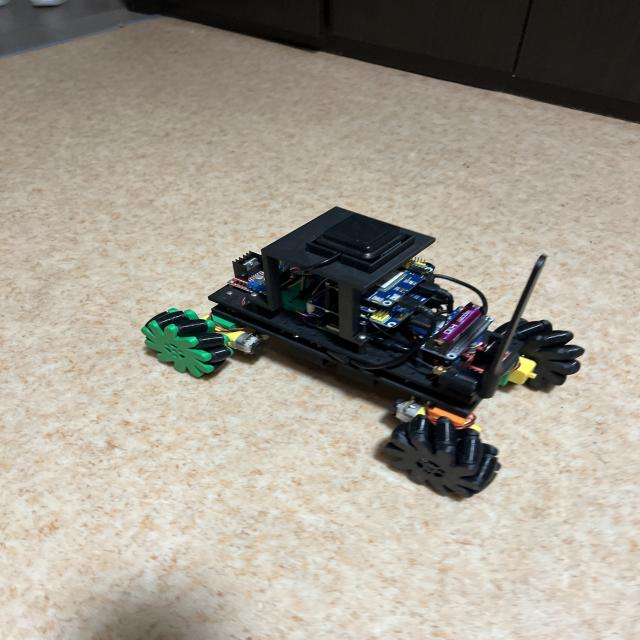robot: (141, 207, 584, 496)
